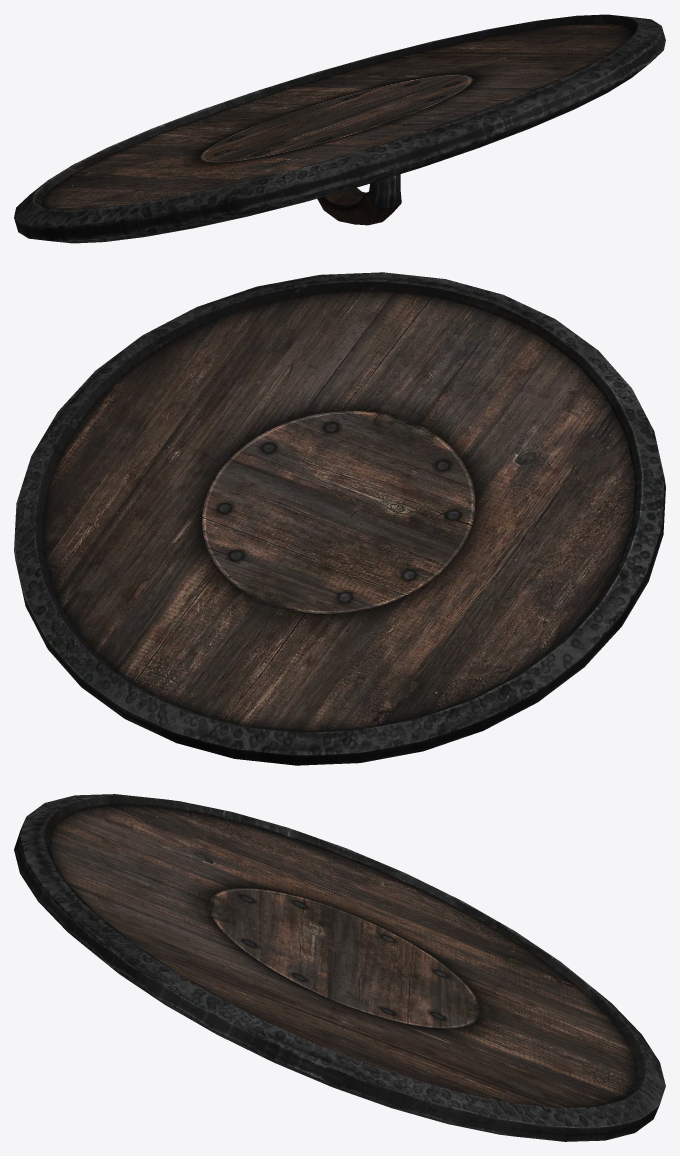
Rendered from SHIELD_04.glb.
3 views of the same model, one above another, from view 1: azimuth 30°, elevation 25°; view 2: azimuth 150°, elevation 25°; view 3: azimuth 270°, elevation 25° (orthographic). The views are drawn at different scales.
Parts seen in each view (by area): view 1: SHIELD_04; view 2: SHIELD_04; view 3: SHIELD_04.
Part boxes in pixels (x1,y1,x2,y2): SHIELD_04: (14,14,665,243); SHIELD_04: (14,272,665,765); SHIELD_04: (14,794,665,1141).
Size of the model in its own units: 0.6067 by 0.2503 by 0.5692.
Materials: 1 (1 with a texture image).
